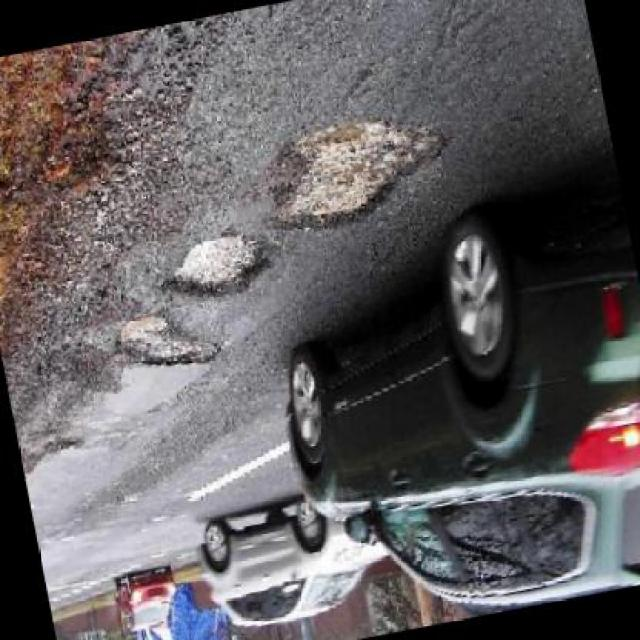pothole1: (248, 97, 461, 248), (156, 222, 281, 312), (108, 300, 224, 385)
